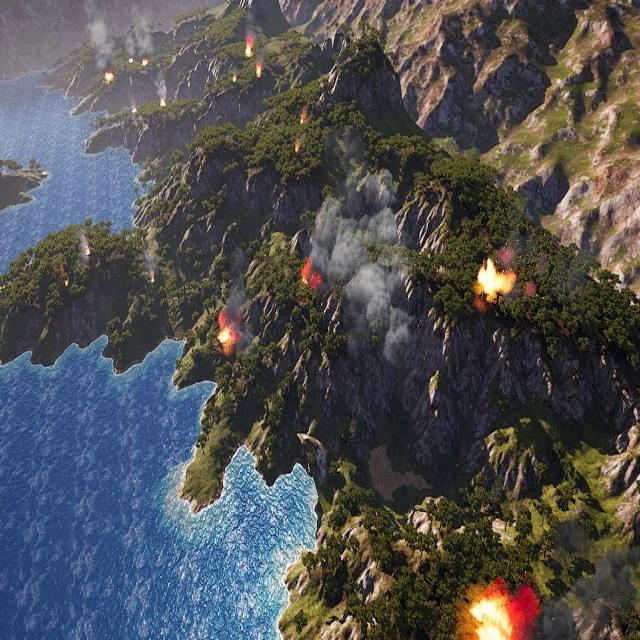fire: (469, 594, 512, 640), (476, 258, 517, 296), (302, 260, 320, 289), (218, 328, 233, 346), (60, 267, 70, 286), (244, 42, 253, 56), (299, 112, 306, 126), (294, 142, 301, 154), (256, 63, 261, 77), (160, 98, 166, 109), (106, 72, 112, 82), (86, 246, 90, 260), (142, 59, 149, 66), (128, 58, 134, 64), (131, 108, 137, 114), (151, 276, 156, 283), (233, 75, 237, 83)
smoke: (310, 124, 419, 364), (509, 522, 640, 640), (218, 254, 256, 355), (83, 0, 117, 72), (120, 4, 155, 57), (142, 248, 158, 284), (152, 69, 169, 97), (78, 231, 91, 263), (243, 9, 255, 38)
